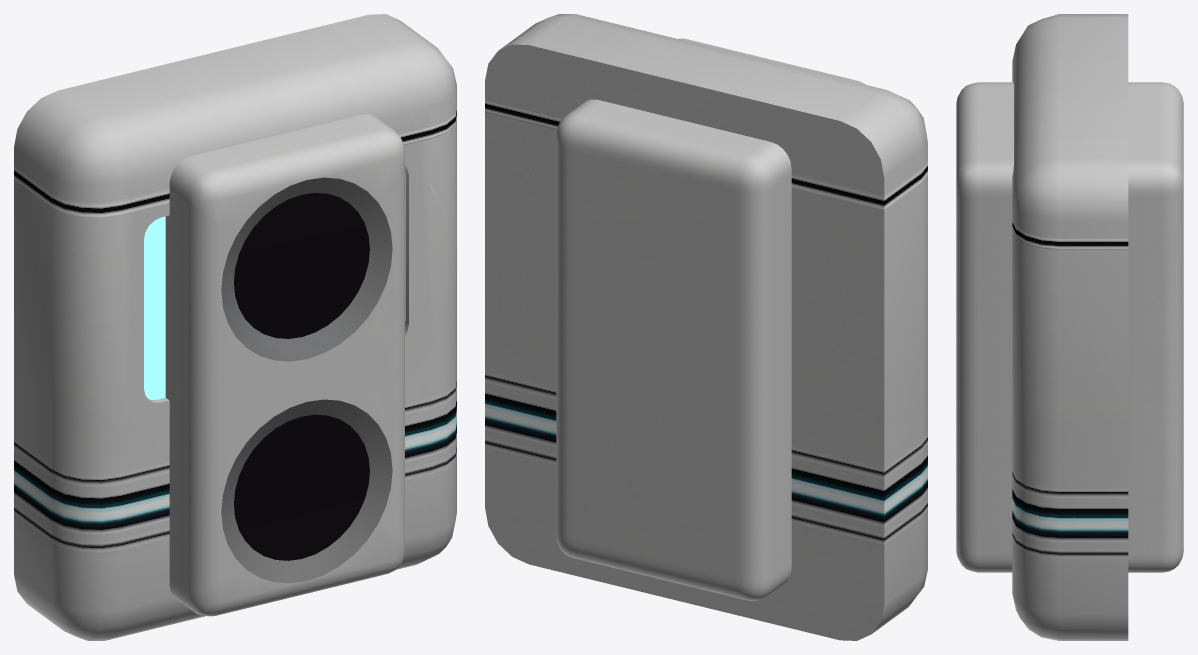
Rendered from Jukebox.fbx.
3 views of the same model, side by side, from view 1: azimuth 30°, elevation 25°; view 2: azimuth 150°, elevation 25°; view 3: azimuth 270°, elevation 25° (orthographic). The views are drawn at different scales.
Parts seen in each view (by area): view 1: Jukebox, Speaker, Screen; view 2: Jukebox, Speaker; view 3: Jukebox, Speaker.
Boxes of the visible parts, x1,y1,x2,y2 form: Jukebox: (14,14,456,640); Speaker: (165,114,404,616); Screen: (144,172,405,399); Jukebox: (485,14,927,640); Speaker: (556,38,865,601); Jukebox: (1012,14,1128,640); Speaker: (956,82,1183,572).
Bounding box in the file's own units: 187 × 232 × 100.
